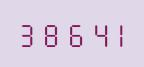eight: (39, 20, 59, 47)
four: (81, 20, 101, 47)
one: (102, 20, 122, 47)
six: (60, 20, 80, 47)
three: (18, 20, 38, 47)
